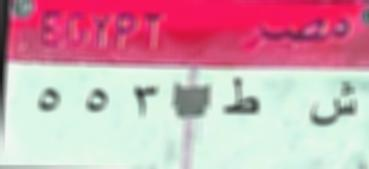3: (126, 80, 162, 122)
5: (76, 84, 111, 120), (35, 84, 63, 119)
Taa: (216, 73, 261, 126)
sheen: (305, 78, 360, 133)
